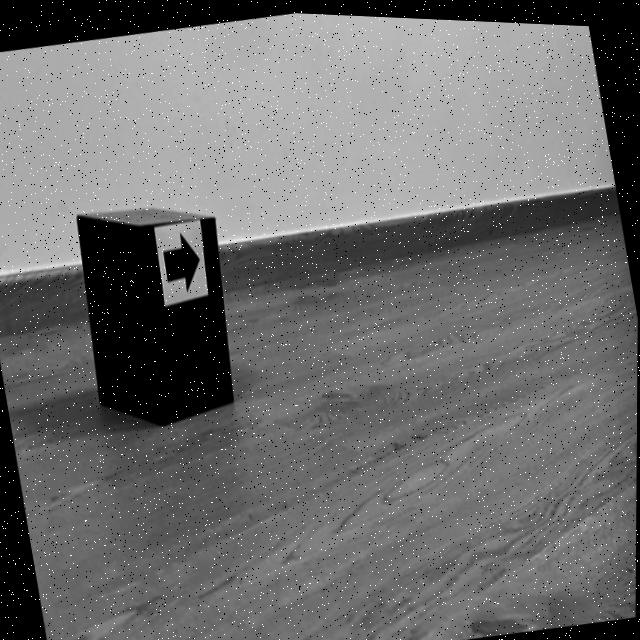RIGHT: (163, 232, 200, 287)
